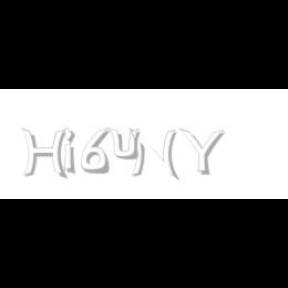6: (80, 128, 110, 176)
H: (21, 128, 67, 180)
N: (128, 128, 178, 180)
Y: (179, 128, 225, 176)
i: (63, 128, 79, 176)
u: (108, 128, 144, 160)
